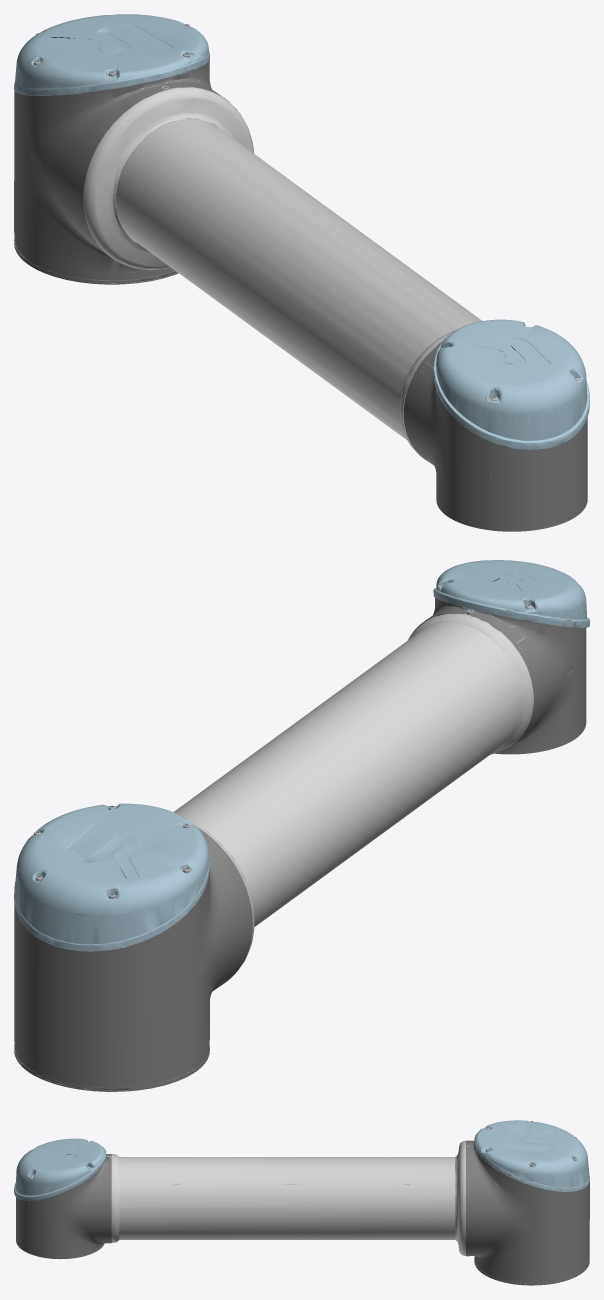
Rendered from upperarm.obj.
The picture shows the model from 3 angles, top to bottom: view 1: azimuth 30°, elevation 25°; view 2: azimuth 150°, elevation 25°; view 3: azimuth 270°, elevation 25°; orthographic projection. The views are drawn at different scales.
Parts seen in each view (by area): view 1: upperarm; view 2: upperarm; view 3: upperarm.
Part boxes in pixels (x1,y1,x2,y2): upperarm: [14, 14, 589, 531]; upperarm: [14, 560, 589, 1091]; upperarm: [14, 1120, 589, 1285].
Bounding box in the file's own units: 0.1503 × 0.1772 × 0.7479.
Materials: 1 (1 with a texture image).
